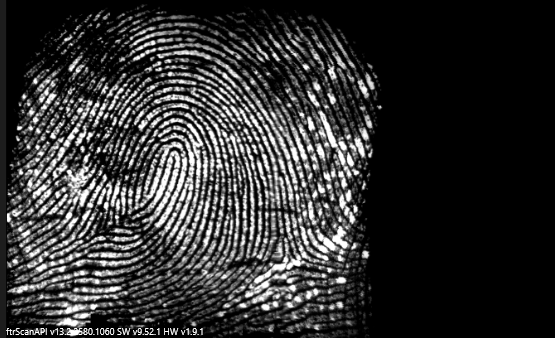nucelo: (159, 144, 188, 175)
verticilo: (276, 248, 303, 271), (113, 200, 136, 223)
